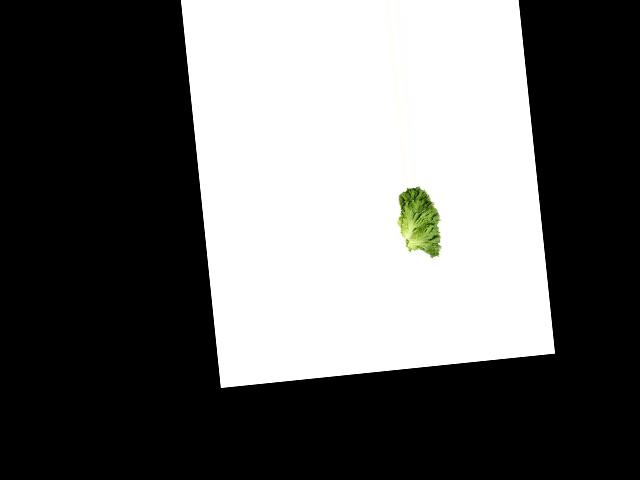lettuce: (391, 183, 449, 260)
